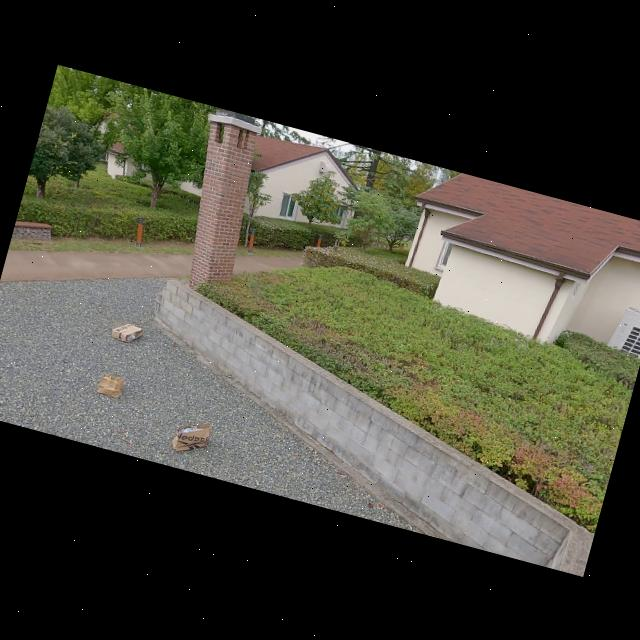trash: (164, 410, 217, 463), (100, 312, 146, 351), (94, 368, 128, 402)
